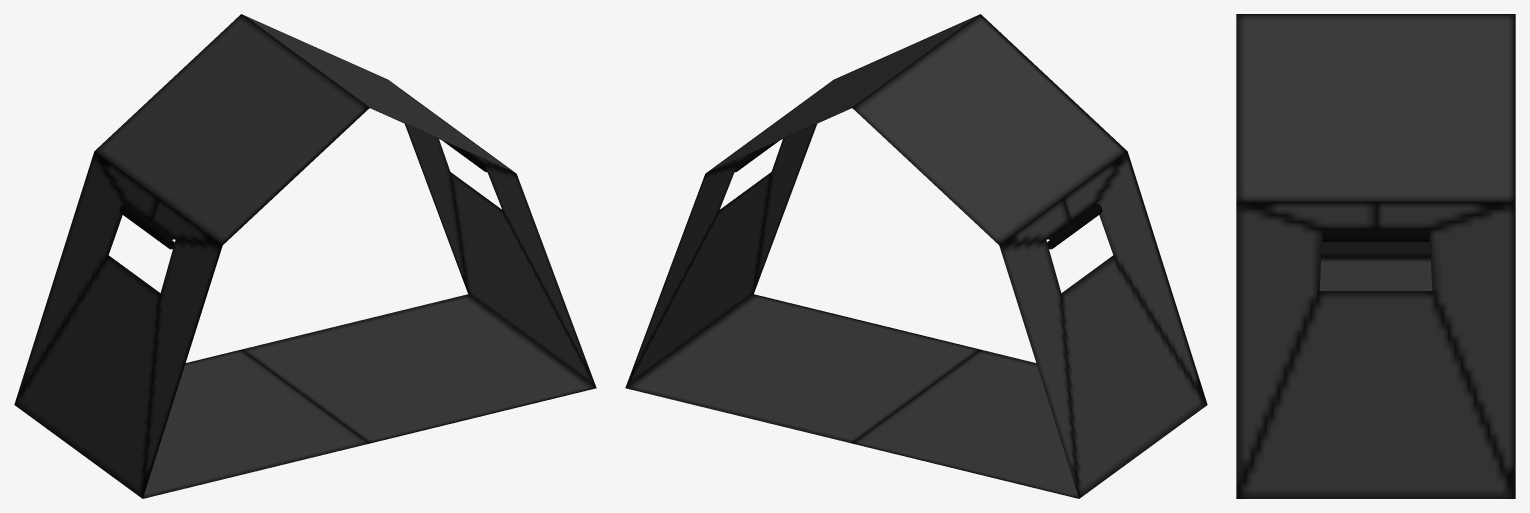
The model's file is BarracksSub.fbx.
3 renders of one model, left to right at view 1: azimuth 30°, elevation 25°; view 2: azimuth 150°, elevation 25°; view 3: azimuth 270°, elevation 25°, orthographic. The views are drawn at different scales.
Visible parts, largest first — view 1: BarracksSub; view 2: BarracksSub; view 3: BarracksSub.
Boxes of the visible parts, x1=… form: BarracksSub: x1=14, y1=14, x2=596, y2=498; BarracksSub: x1=625, y1=14, x2=1207, y2=498; BarracksSub: x1=1236, y1=14, x2=1515, y2=498.
Size of the model in its own units: 1142 by 807 by 560.
